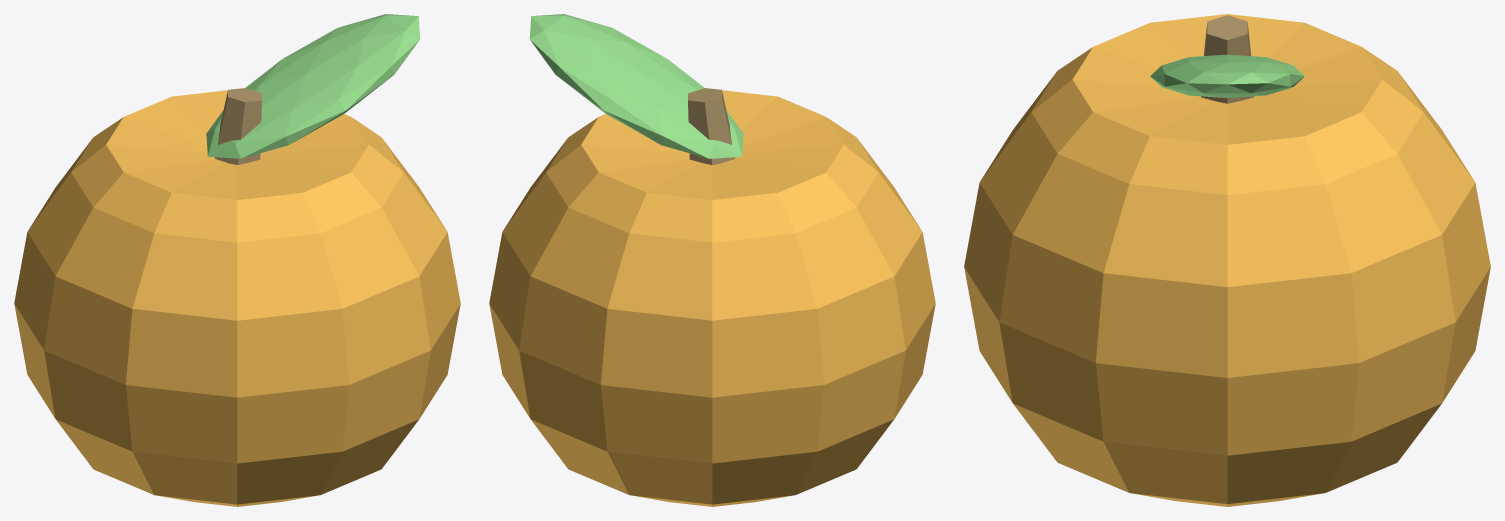
File: OrangeFruit.glb
3 views of the same model, side by side, from view 1: azimuth 30°, elevation 25°; view 2: azimuth 150°, elevation 25°; view 3: azimuth 270°, elevation 25° (orthographic). The views are drawn at different scales.
Visible parts, largest first — view 1: OrangeFruit_OrangeBody, OrangeFruit_OrangeLeaf, OrangeFruit_OrangeStem; view 2: OrangeFruit_OrangeBody, OrangeFruit_OrangeLeaf, OrangeFruit_OrangeStem; view 3: OrangeFruit_OrangeBody, OrangeFruit_OrangeLeaf, OrangeFruit_OrangeStem.
Boxes of the visible parts, x1=… form: OrangeFruit_OrangeBody: x1=14, y1=90, x2=460, y2=506; OrangeFruit_OrangeLeaf: x1=206, y1=14, x2=420, y2=158; OrangeFruit_OrangeStem: x1=215, y1=88, x2=261, y2=164; OrangeFruit_OrangeBody: x1=489, y1=90, x2=935, y2=506; OrangeFruit_OrangeLeaf: x1=529, y1=14, x2=743, y2=158; OrangeFruit_OrangeStem: x1=688, y1=88, x2=734, y2=164; OrangeFruit_OrangeBody: x1=964, y1=14, x2=1490, y2=506; OrangeFruit_OrangeLeaf: x1=1150, y1=54, x2=1304, y2=97; OrangeFruit_OrangeStem: x1=1201, y1=15, x2=1253, y2=103.
Bounding box in the file's own units: 1.02 × 1.03 × 1.02.
